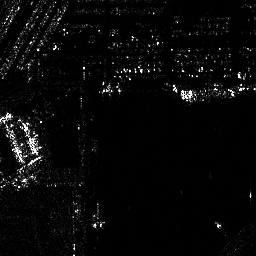ship: (178, 86, 242, 104)
